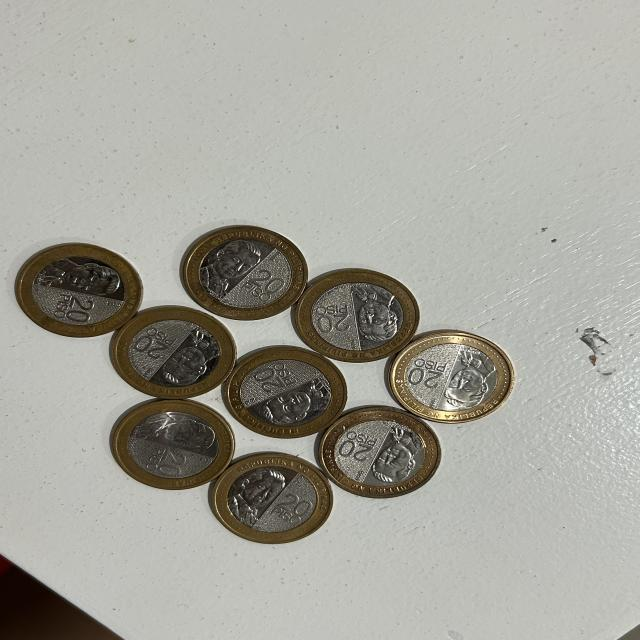20_New_Front: (140, 445, 200, 489), (43, 291, 108, 331), (402, 349, 445, 400), (271, 487, 315, 531), (314, 300, 352, 348), (336, 424, 378, 464), (133, 329, 175, 368), (243, 264, 280, 303), (244, 362, 282, 397)
